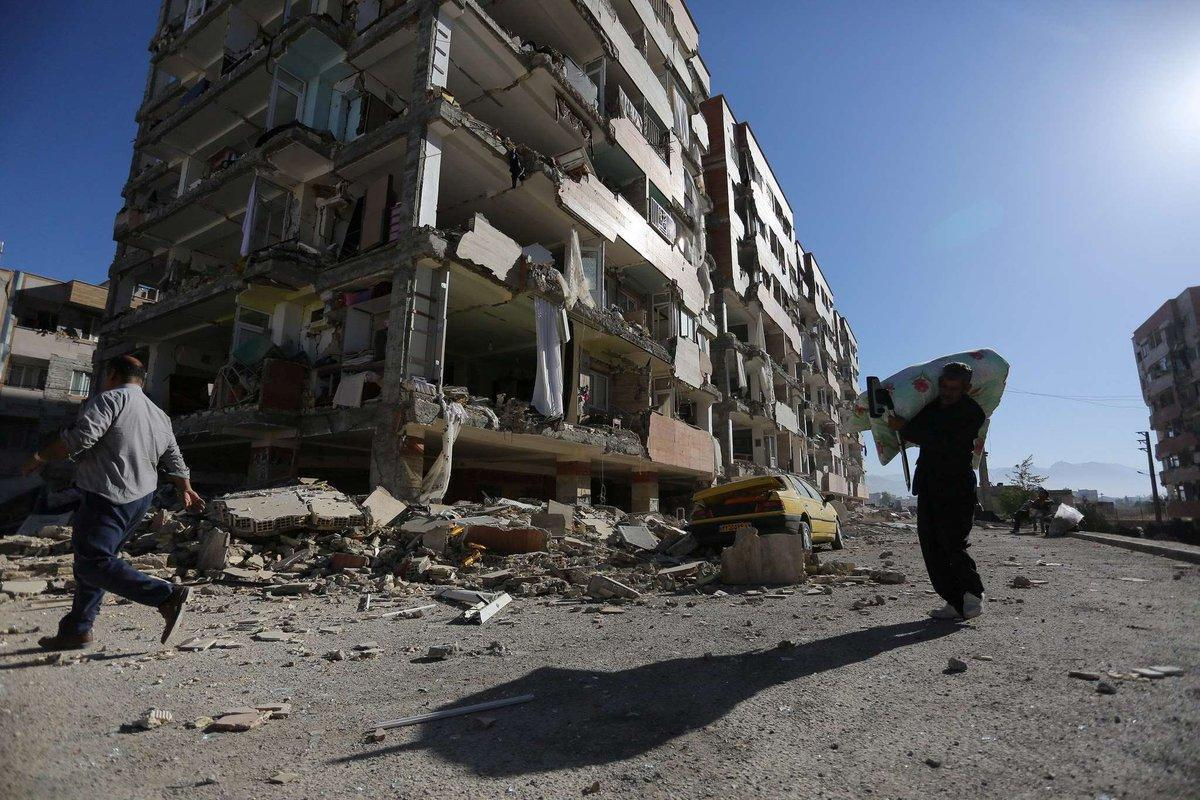destroyed: (114, 13, 876, 517)
